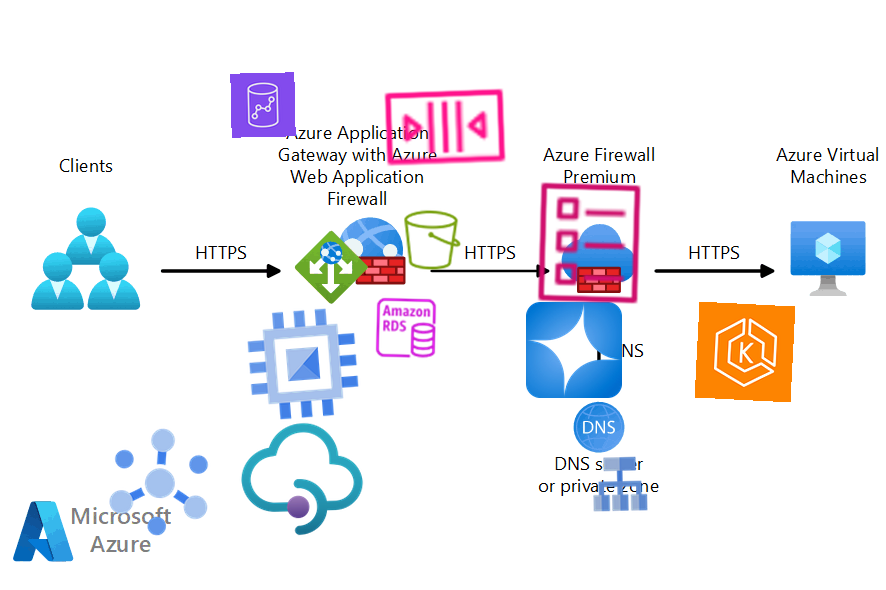aws_amazon_elastic_kubernetes_service: (694, 301, 796, 403)
aws_amazon_redshift: (230, 72, 296, 138)
aws_aurora_amazon_rds_instance: (373, 295, 439, 361)
aws_cloudformation_template: (522, 177, 654, 309)
aws_simple_queue_service_queue: (378, 59, 512, 193)
aws_simple_storage_service_s3_standard: (399, 207, 465, 273)
azure_api_management_services: (236, 413, 368, 545)
azure_openai: (525, 301, 623, 399)
gcp_cloud_load_balancing: (587, 451, 653, 517)
gcp_compute_engine: (234, 295, 372, 433)
gcp_pubsub: (91, 413, 229, 551)
